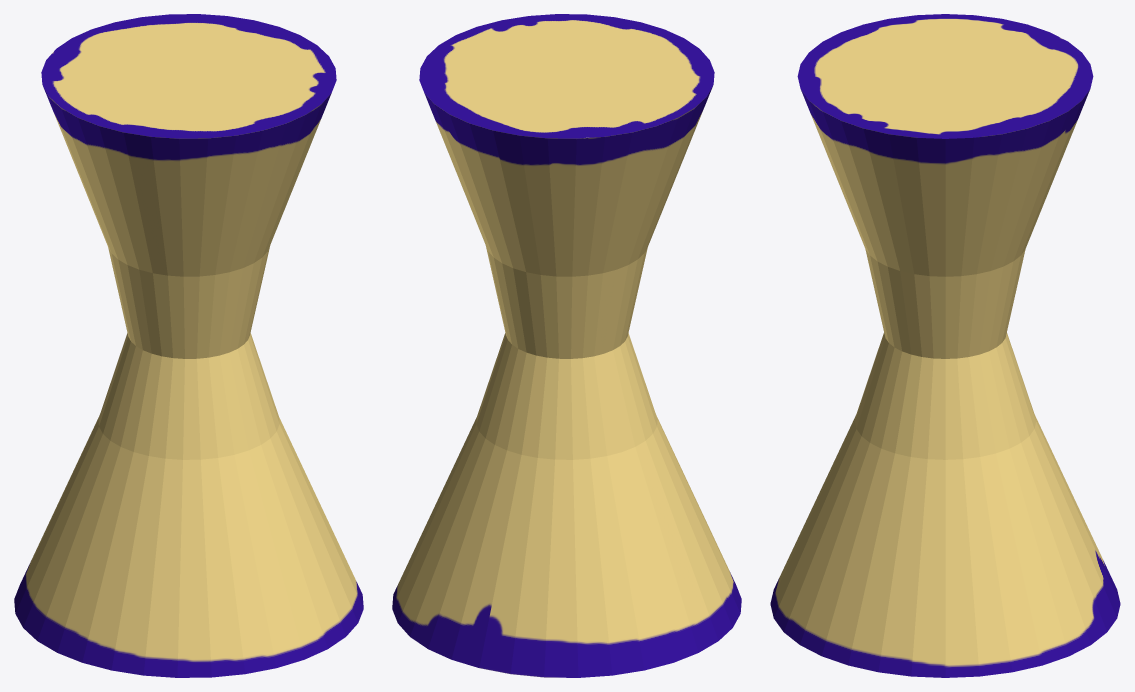
File: Yellow Object.fbx
3 views of the same model, side by side, from view 1: azimuth 30°, elevation 25°; view 2: azimuth 150°, elevation 25°; view 3: azimuth 270°, elevation 25° (orthographic).
Visible parts, largest first — view 1: Cylinder; view 2: Cylinder; view 3: Cylinder.
Part boxes in pixels (x1=…): Cylinder: x1=14, y1=14, x2=363, y2=677; Cylinder: x1=392, y1=14, x2=741, y2=677; Cylinder: x1=770, y1=14, x2=1120, y2=677.
Size of the model in its own units: 1006 by 1672 by 1006.
